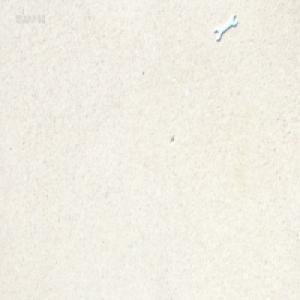Wrench: (210, 15, 236, 43)
